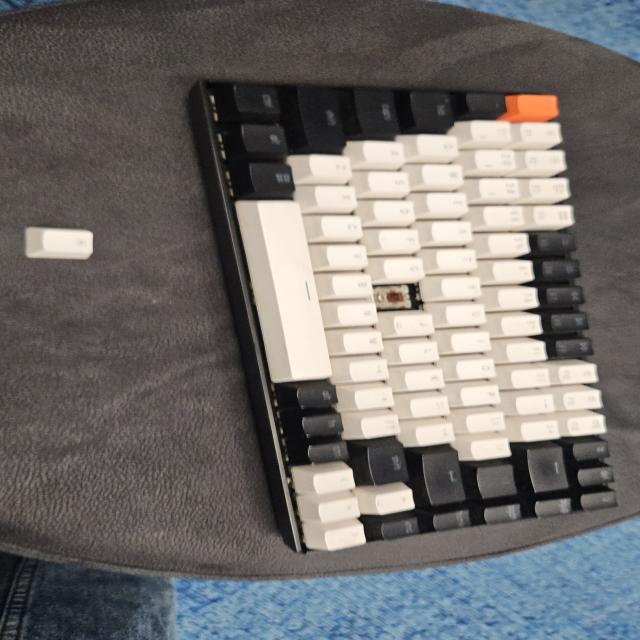C: (380, 286, 414, 307)
